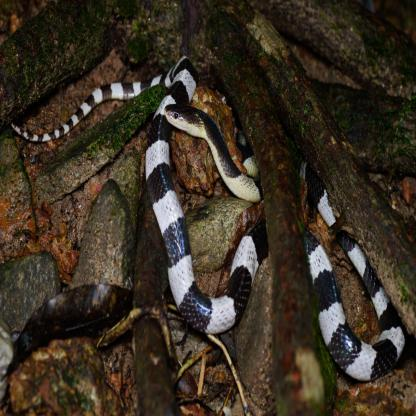Snake: (13, 53, 405, 378)
